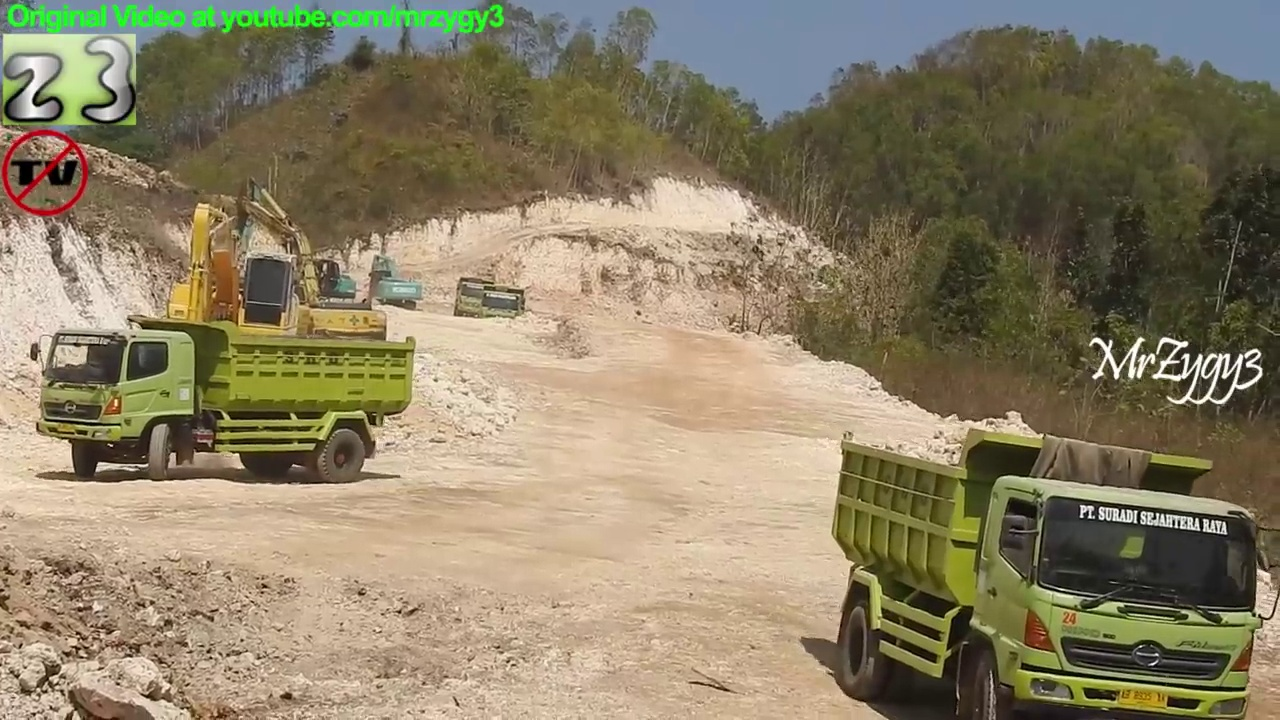excavator: (99, 200, 340, 437), (195, 175, 396, 382), (217, 183, 360, 344), (360, 248, 424, 319)
truck: (826, 424, 1280, 720), (29, 310, 417, 486), (451, 272, 498, 323), (479, 282, 527, 331)
